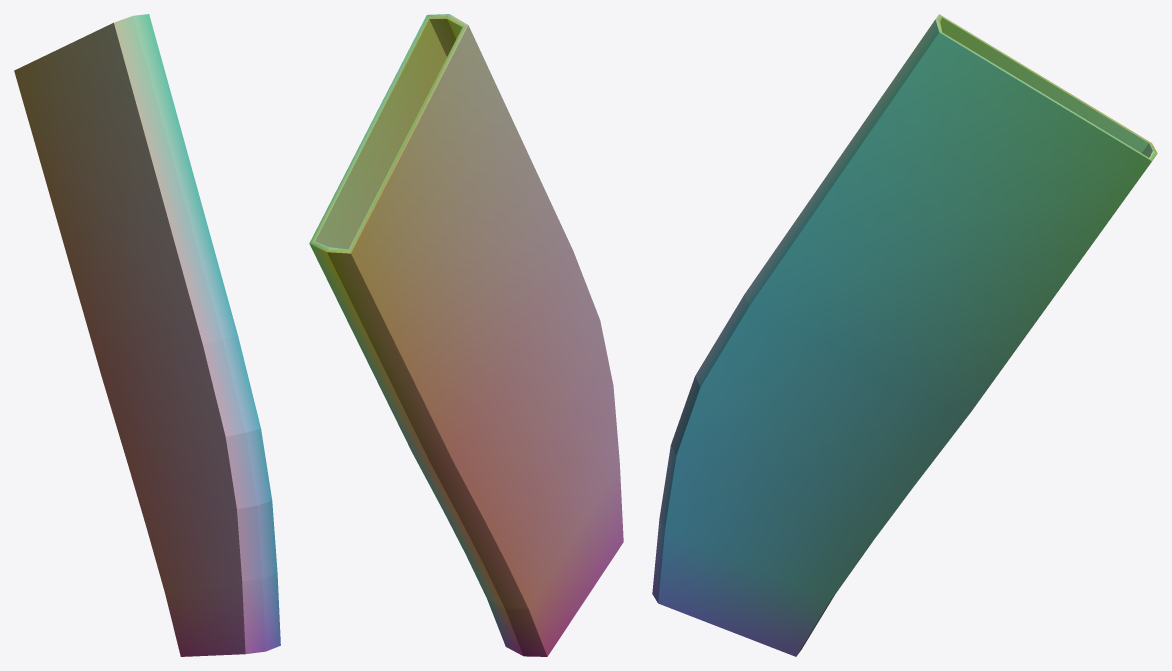
Rendered from Blade Tape (Attacker).glb.
The picture shows the model from 3 angles, left to right: view 1: azimuth 30°, elevation 25°; view 2: azimuth 150°, elevation 25°; view 3: azimuth 270°, elevation 25°; orthographic projection. The views are drawn at different scales.
Visible parts, largest first — view 1: Blade Tape (Attacker); view 2: Blade Tape (Attacker); view 3: Blade Tape (Attacker).
Boxes of the visible parts, x1,y1,x2,y2 form: Blade Tape (Attacker): [14, 14, 280, 656]; Blade Tape (Attacker): [309, 14, 623, 656]; Blade Tape (Attacker): [652, 14, 1157, 656].
Size of the model in its own units: 0.0507 by 0.8102 by 0.5883.
